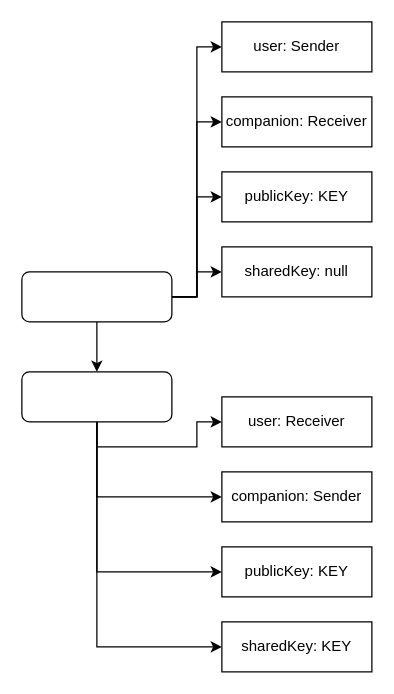
Some shapes in this 394 by 694 pixel diagram are drawn without their labels. The centre of each missing label's shape, as x and y in pixels:
"Accept Request" goes at pixel 96 396.
"Send Request" goes at pixel 96 296.
